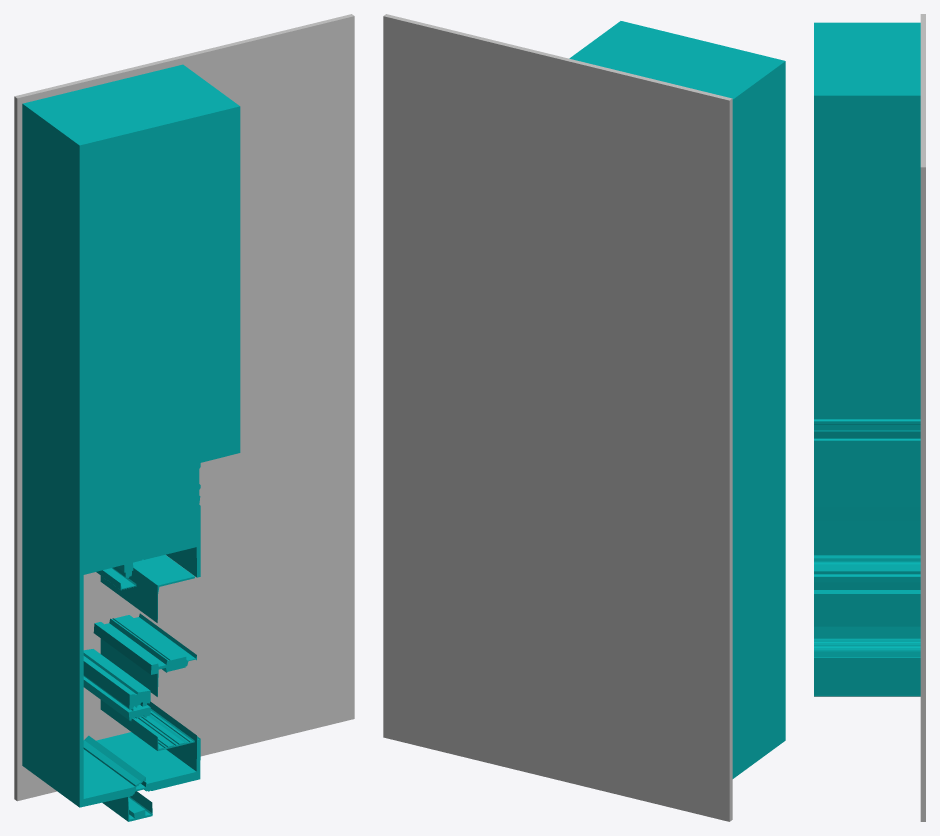
3 views of the same model, side by side, from view 1: azimuth 30°, elevation 25°; view 2: azimuth 150°, elevation 25°; view 3: azimuth 270°, elevation 25° (orthographic). The views are drawn at different scales.
Parts seen in each view (by area): view 1: world; view 2: world; view 3: world.
Boxes of the visible parts, x1=… form: world: x1=14, y1=14, x2=354, y2=821; world: x1=383, y1=14, x2=785, y2=821; world: x1=814, y1=14, x2=925, y2=821.
Bounding box in the file's own units: 10.23 × 20.36 × 3.15.
